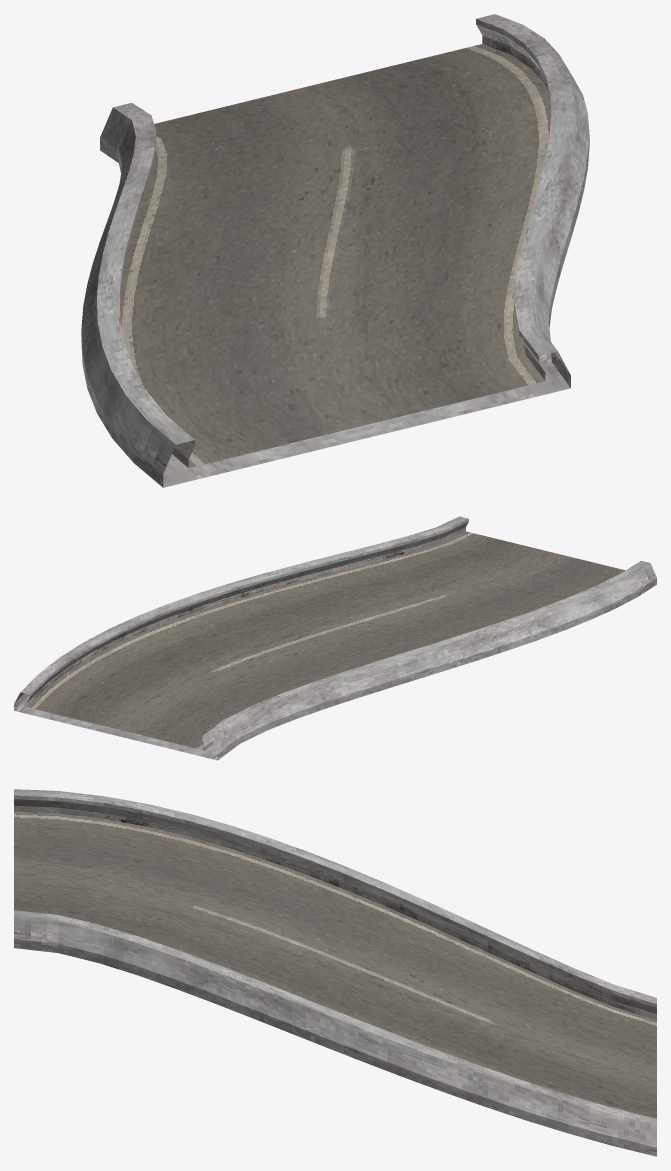
The model's file is road-Chicane-Flat-BiSlopeDown-Down1-Right1-Size2.glb.
3 renders of one model, top to bottom at view 1: azimuth 30°, elevation 25°; view 2: azimuth 150°, elevation 25°; view 3: azimuth 270°, elevation 25°, orthographic. The views are drawn at different scales.
Visible parts, largest first — view 1: road-Chicane-Flat-BiSlopeDown-Down1-Right1-Size2; view 2: road-Chicane-Flat-BiSlopeDown-Down1-Right1-Size2; view 3: road-Chicane-Flat-BiSlopeDown-Down1-Right1-Size2.
Boxes of the visible parts, bbox=[...] form: road-Chicane-Flat-BiSlopeDown-Down1-Right1-Size2: bbox=[81, 14, 589, 487]; road-Chicane-Flat-BiSlopeDown-Down1-Right1-Size2: bbox=[14, 516, 656, 760]; road-Chicane-Flat-BiSlopeDown-Down1-Right1-Size2: bbox=[14, 789, 656, 1156].
Bounding box in the file's own units: 2 × 0.3438 × 2.
2 materials, 2 textured.
